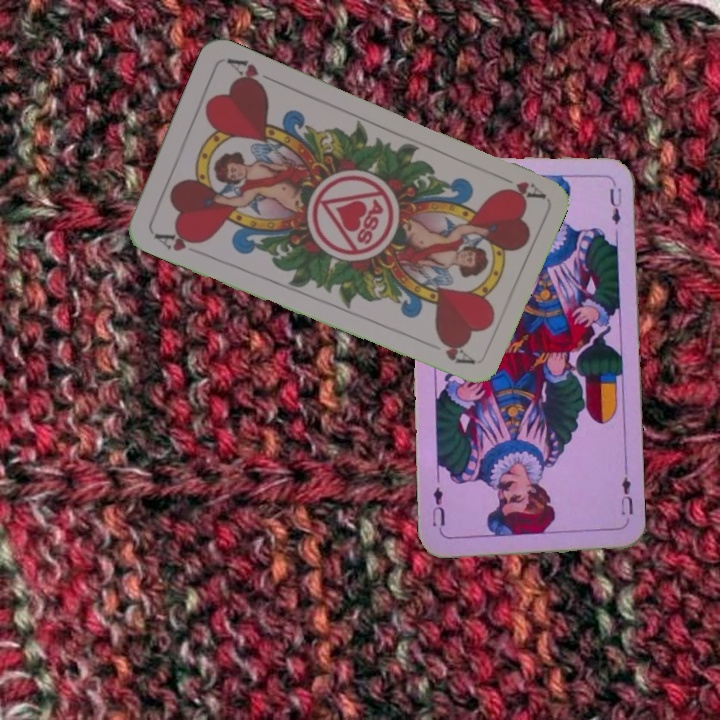EU: (616, 468, 636, 527)
HA: (489, 169, 546, 204), (149, 227, 206, 254)
